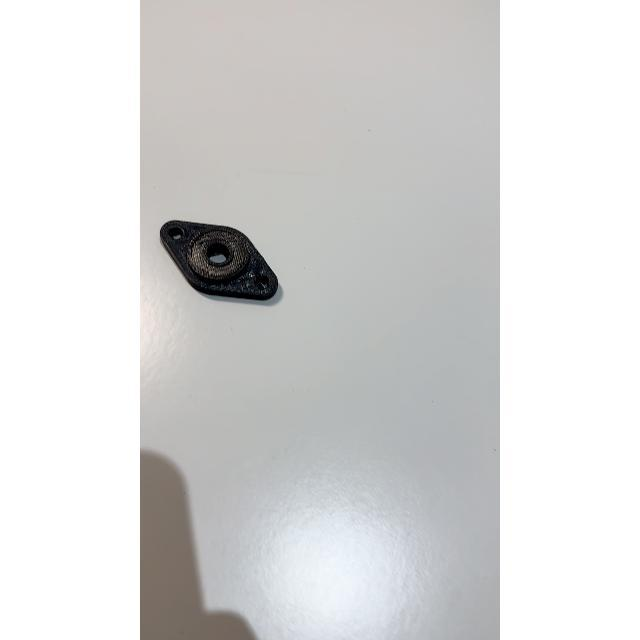Pieza2: (155, 207, 279, 317)
